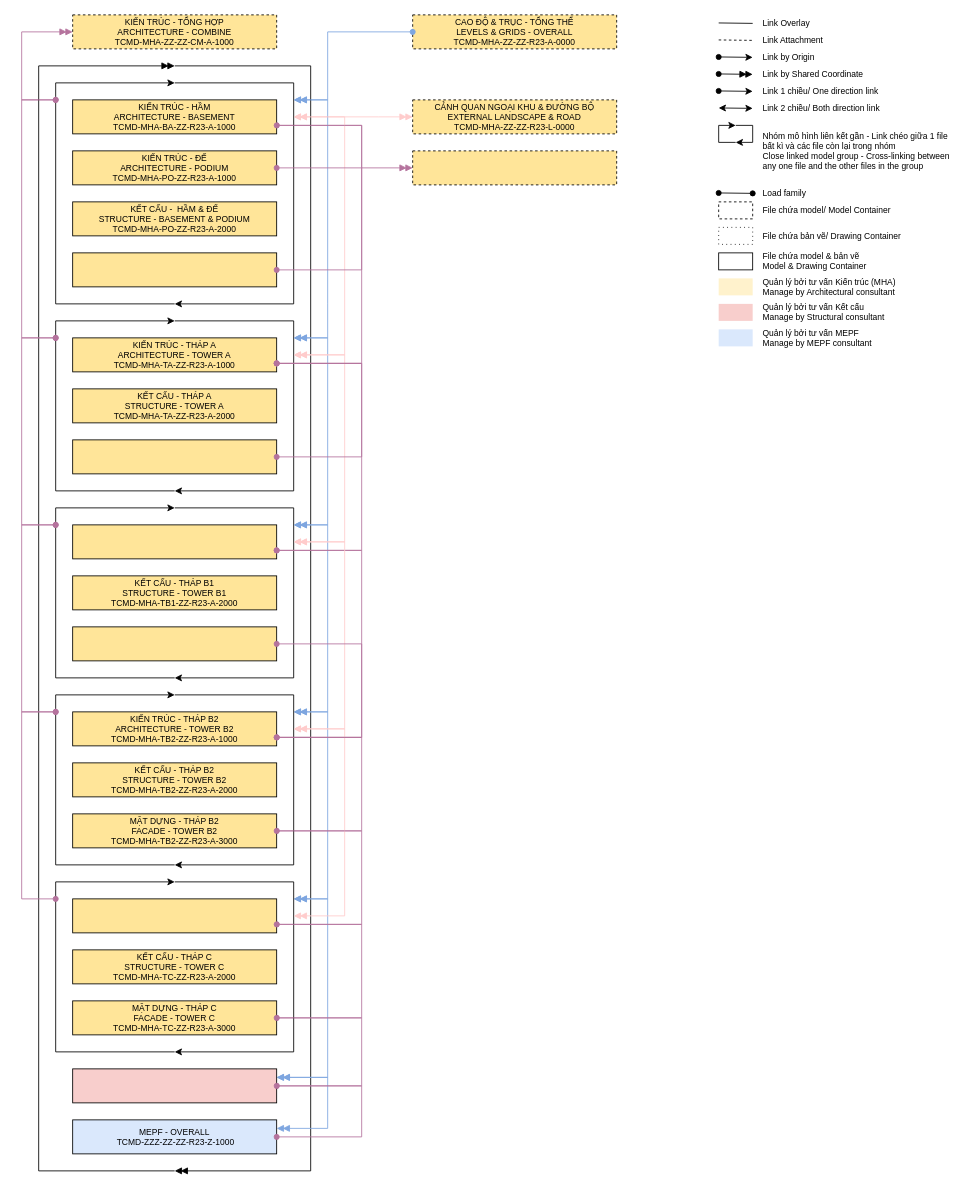
This 972x1193 diagram has some shape labels left out. The shapes that lost their labels are listed below. From the top down, each one's centre as x and y in pixels, then its label:
At point 514,167: "KIỂM TRA VA CHẠM CLASH DETECTION TCMD -MHA-ZZ-ZZ-CR-Z-1000".
At point 174,269: "MẶT DỰNG - ĐẾ FACADE - PODIUM TCMD-MHA-PO-ZZ-R23-A-3000".
At point 174,456: "MẶT DỰNG - THÁP A FACADE - TOWER A TCMD-MHA-TA-ZZ-R23-A-3000".
At point 174,541: "KIẾN TRÚC - THÁP B1 ARCHITECTURE - TOWER B1 TCMD-MHA-TB1-ZZ-R23-A-1000".
At point 174,643: "MẶT DỰNG - THÁP B1 FACADE - TOWER B1 TCMD-MHA-TB1-ZZ-R23-A-3000".
At point 174,915: "KIẾN TRÚC - THÁP C ARCHITECTURE - TOWER C TCMD-MHA-TC-ZZ-R23-A-1000".
At point 174,1085: "KẾT CẤU - TOÀN KHU STRUCTURE - OVERALL TCMD-ZZZ-ZZ-ZZ-R23-S-1000".
